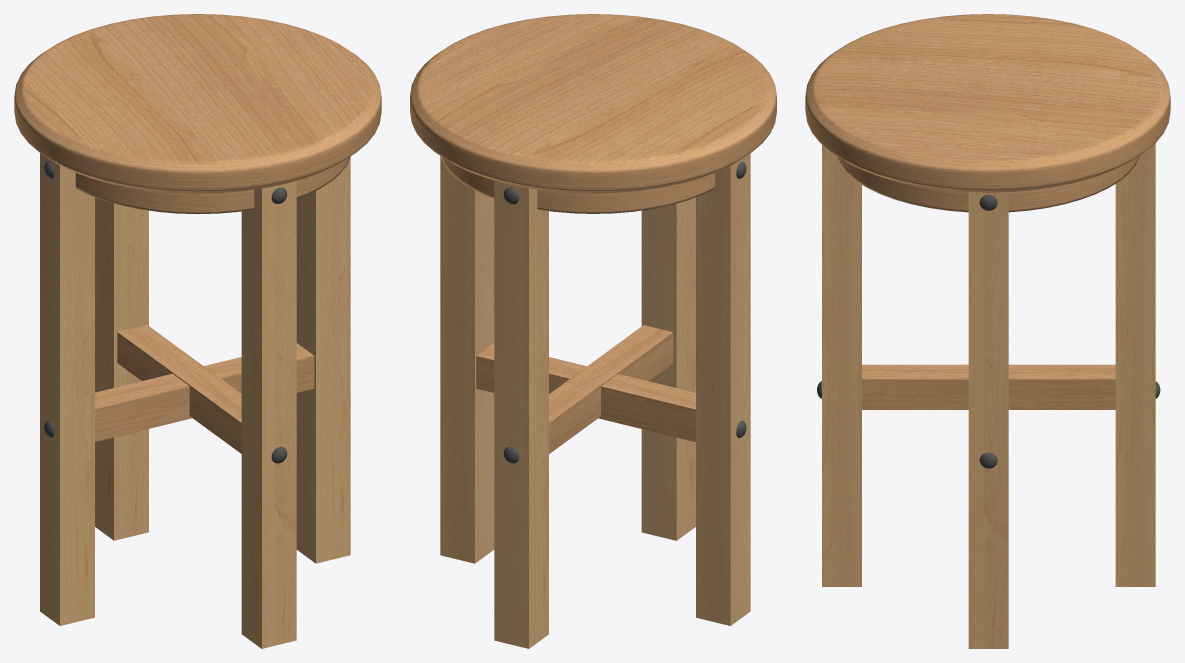
The model's file is wooden_stool.obj.
3 renders of one model, left to right at view 1: azimuth 30°, elevation 25°; view 2: azimuth 150°, elevation 25°; view 3: azimuth 270°, elevation 25°, orthographic.
Visible parts, largest first — view 1: Leg_Cube.008, Top_of_stool_Cylinder.001, truss_b_Cube.009, Stoll_top_support_Cylinder.005, Sphere; view 2: Leg_Cube.008, Top_of_stool_Cylinder.001, truss_b_Cube.009, Stoll_top_support_Cylinder.005, Sphere; view 3: Leg_Cube.008, Top_of_stool_Cylinder.001, truss_b_Cube.009, Stoll_top_support_Cylinder.005, Sphere.
Part boxes in pixels (left/top/right/bottom): Leg_Cube.008: left=40, top=153, right=350, bottom=648; Top_of_stool_Cylinder.001: left=14, top=14, right=381, bottom=193; truss_b_Cube.009: left=95, top=325, right=314, bottom=453; Stoll_top_support_Cylinder.005: left=75, top=156, right=350, bottom=214; Sphere: left=44, top=161, right=287, bottom=463; Leg_Cube.008: left=440, top=153, right=750, bottom=648; Top_of_stool_Cylinder.001: left=410, top=14, right=776, bottom=193; truss_b_Cube.009: left=476, top=325, right=695, bottom=453; Stoll_top_support_Cylinder.005: left=441, top=156, right=714, bottom=213; Sphere: left=503, top=161, right=746, bottom=463; Leg_Cube.008: left=822, top=143, right=1155, bottom=648; Top_of_stool_Cylinder.001: left=805, top=14, right=1170, bottom=192; truss_b_Cube.009: left=862, top=364, right=1115, bottom=409; Stoll_top_support_Cylinder.005: left=836, top=156, right=1139, bottom=212; Sphere: left=817, top=194, right=1160, bottom=468.
Size of the model in its own units: 2.57 by 3.84 by 2.57.
